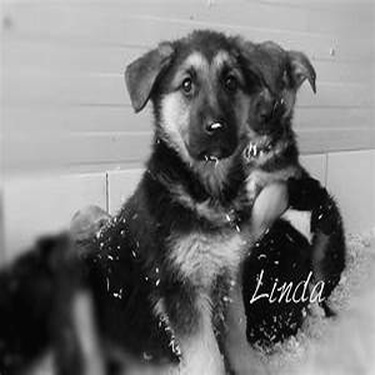dog: (1, 22, 272, 374), (200, 20, 352, 358)
